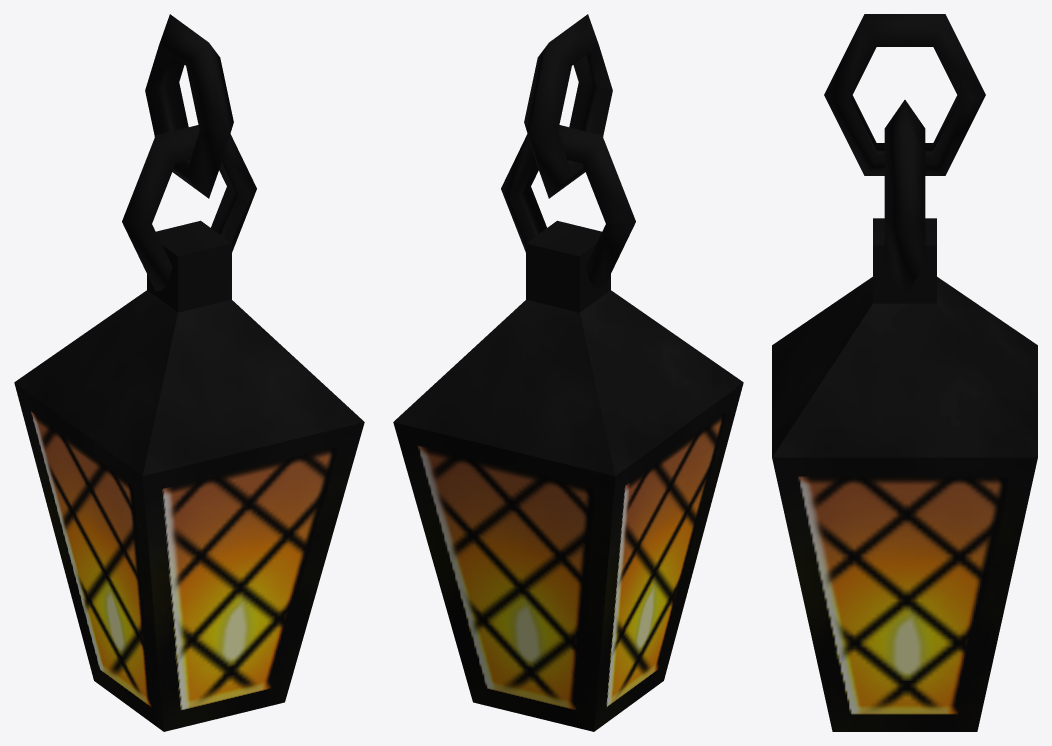
The model's file is lantern.fbx.
3 views of the same model, side by side, from view 1: azimuth 30°, elevation 25°; view 2: azimuth 150°, elevation 25°; view 3: azimuth 270°, elevation 25° (orthographic). The views are drawn at different scales.
Visible parts, largest first — view 1: Cube.001; view 2: Cube.001; view 3: Cube.001.
Part boxes in pixels (x1,y1,x2,y2): Cube.001: (14,14,364,731); Cube.001: (393,14,743,731); Cube.001: (772,14,1037,731).
Size of the model in its own units: 145 by 413 by 145.
